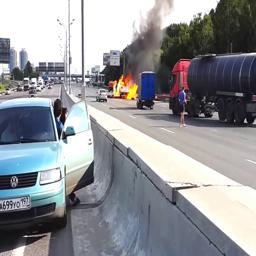fire: (112, 73, 137, 101)
